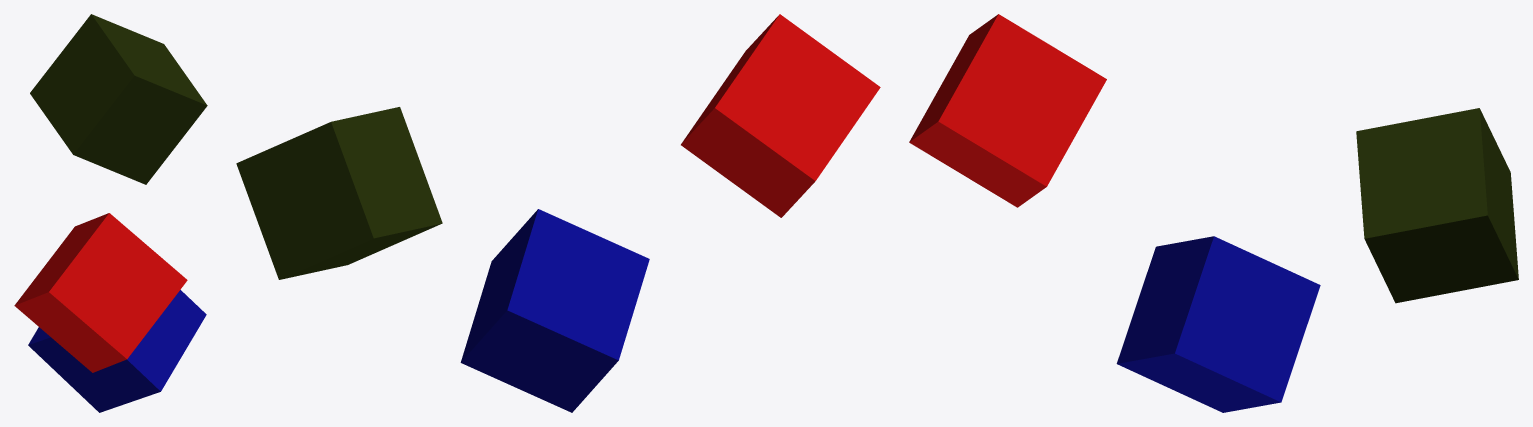
The model's file is myCubes.obj.
3 views of the same model, side by side, from view 1: azimuth 30°, elevation 25°; view 2: azimuth 150°, elevation 25°; view 3: azimuth 270°, elevation 25° (orthographic). The views are drawn at different scales.
Visible parts, largest first — view 1: Cube.001_Cube.004, Cube_Cube.003, Cube.002_Cube.005; view 2: Cube.002_Cube.005, Cube.001_Cube.004, Cube_Cube.003; view 3: Cube.001_Cube.004, Cube.002_Cube.005, Cube_Cube.003.
Boxes of the visible parts, x1,y1,x2,y2 form: Cube.001_Cube.004: (30, 14, 207, 184); Cube_Cube.003: (14, 213, 187, 372); Cube.002_Cube.005: (28, 290, 206, 412); Cube.002_Cube.005: (460, 209, 649, 412); Cube.001_Cube.004: (236, 107, 442, 279); Cube_Cube.003: (681, 14, 880, 217); Cube.001_Cube.004: (1356, 108, 1518, 303); Cube.002_Cube.005: (1116, 236, 1320, 412); Cube_Cube.003: (909, 14, 1106, 207).
Size of the model in its own units: 7.23 by 6.27 by 9.56.
